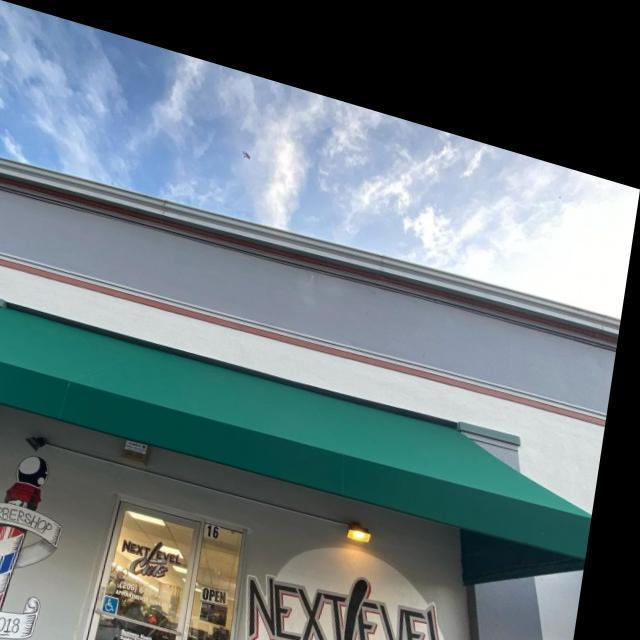-: (0, 432, 99, 640)
